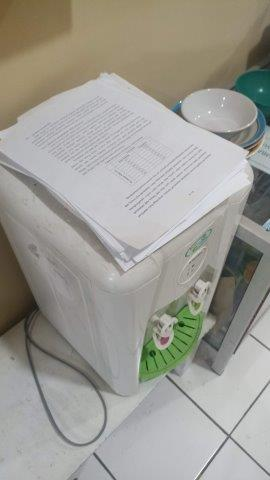kertas: (1, 70, 249, 276)
